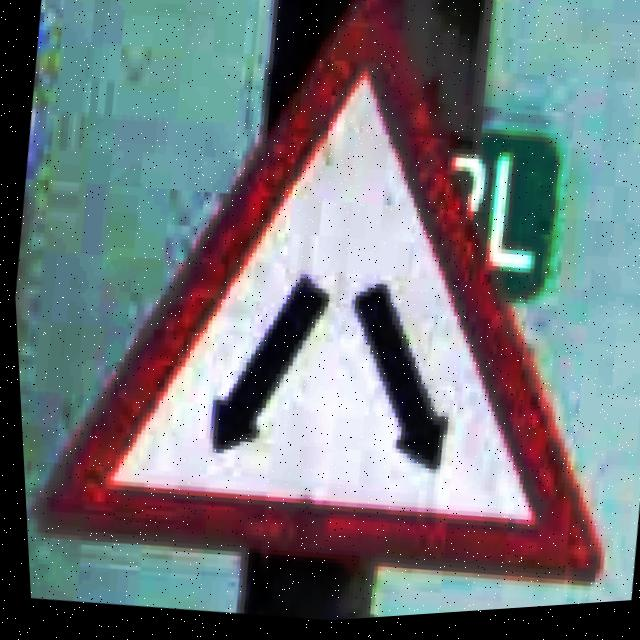diverge: (39, 0, 588, 586)
